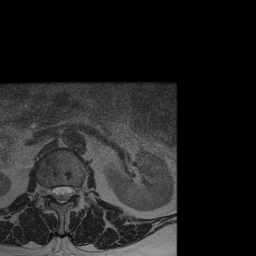CCS_normal: (57, 179, 65, 209)
LFS_normal: (72, 180, 79, 201)
LLS_normal: (65, 179, 72, 205)
RFS_normal: (43, 180, 50, 202)
RLS_normal: (50, 180, 57, 204)
